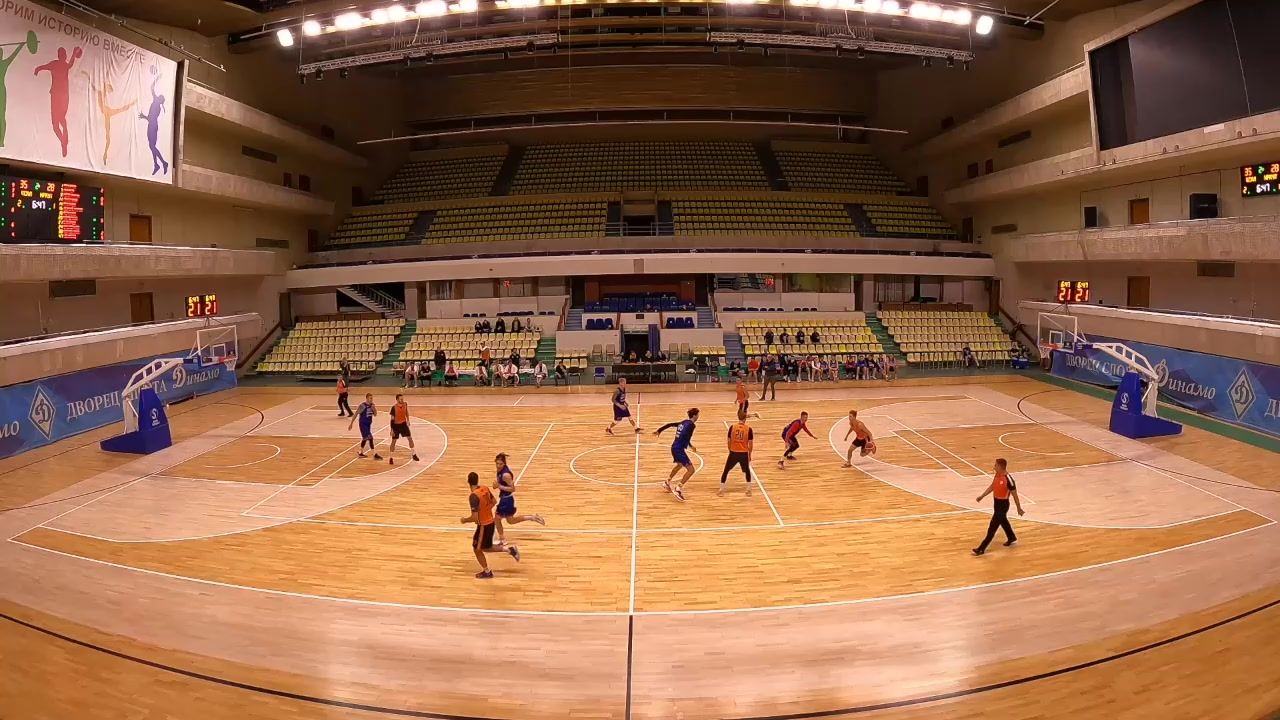basketball: (870, 460, 920, 504), (852, 435, 886, 459)
